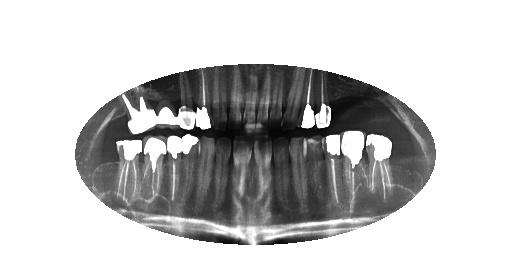i10decay: (211, 133, 238, 207)
i11healthy: (194, 133, 218, 205)
i12healthy: (178, 134, 201, 205)
i13healthy: (162, 133, 185, 202)
i14healthy: (138, 136, 169, 205)
i15healthy: (111, 137, 148, 206)
i2healthy: (360, 128, 400, 204)
i3healthy: (338, 123, 372, 215)
i4healthy: (319, 132, 347, 203)
i5healthy: (305, 133, 330, 198)
i6healthy: (285, 133, 313, 203)
i7decay: (268, 133, 295, 200)
i8decay: (254, 133, 276, 203)
i9decay: (231, 135, 255, 202)
u10decay: (228, 64, 248, 132)
u11decay: (208, 68, 230, 127)
u12healthy: (196, 68, 214, 132)
u13healthy: (175, 71, 197, 133)
u14loss: (155, 76, 178, 131)
u15loss: (121, 92, 161, 134)
u2loss: (345, 74, 364, 130)
u3loss: (329, 71, 347, 128)
u4healthy: (313, 69, 335, 130)
u5healthy: (299, 64, 318, 128)
u6decay: (282, 64, 305, 131)
u7decay: (268, 62, 286, 128)
u8decay: (257, 63, 274, 131)
u9healthy: (242, 64, 258, 131)
